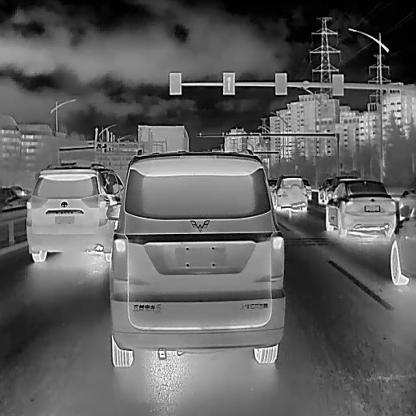car: (103, 151, 285, 367), (25, 160, 126, 262), (324, 177, 396, 237), (136, 122, 189, 161), (273, 173, 308, 212), (324, 174, 361, 209), (317, 175, 334, 204), (0, 186, 20, 208), (299, 177, 311, 201), (9, 185, 27, 197)
